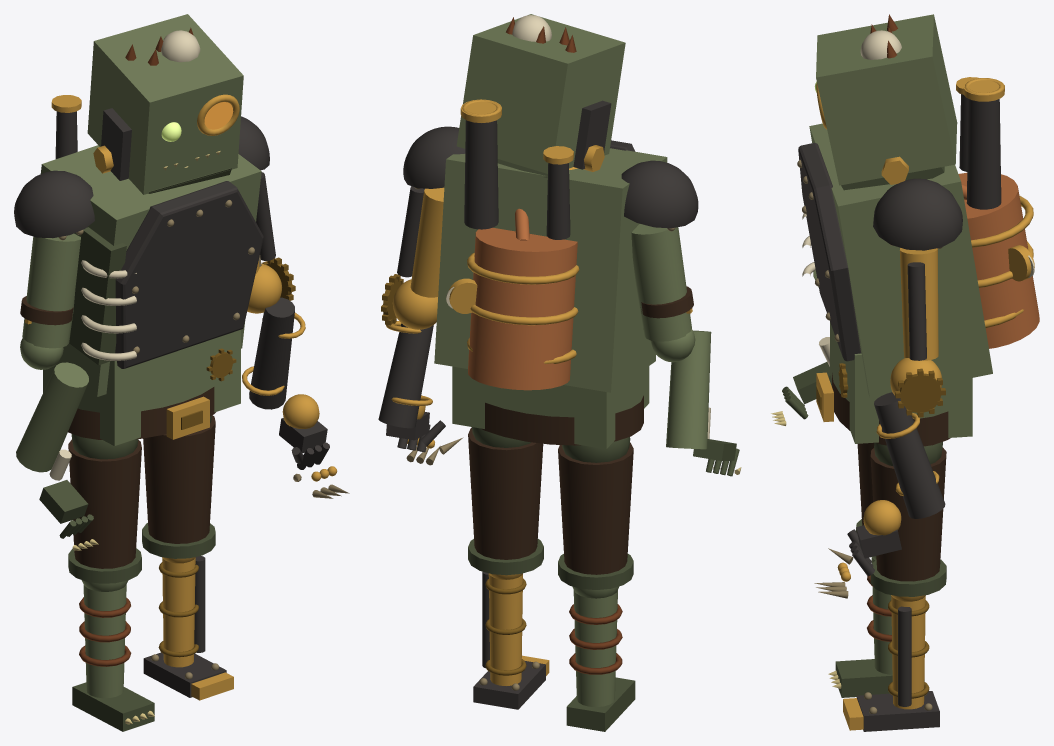
Rendered from revenant.glb.
3 views of the same model, side by side, from view 1: azimuth 30°, elevation 25°; view 2: azimuth 150°, elevation 25°; view 3: azimuth 270°, elevation 25° (orthographic). The views are drawn at different scales.
Visible parts, largest first — view 1: chest_plate, skull, belly, chest, thigh_R, thigh_L, upper_arm_L, pauldron_L, flesh_tear, forearm_L, shin_L, forearm_R (+23 smaller); view 2: chest, skull, steam_tank, thigh_L, thigh_R, belly, upper_arm_L, pauldron_L, forearm_L, shin_L, smokestack, belt (+24 smaller); view 3: skull, chest, steam_tank, chest_plate, pauldron_R, thigh_R, belly, forearm_R, smokestack, upper_arm_R_core, foot_R, shin_R (+22 smaller).
Part boxes in pixels (left/top/right/bottom): chest_plate: left=115, top=181, right=263, bottom=368; skull: left=87, top=14, right=243, bottom=194; belly: left=43, top=329, right=240, bottom=446; chest: left=40, top=145, right=261, bottom=396; thigh_R: left=143, top=415, right=215, bottom=543; thigh_L: left=68, top=439, right=141, bottom=568; upper_arm_L: left=22, top=233, right=80, bottom=348; pauldron_L: left=14, top=170, right=94, bottom=238; flesh_tear: left=69, top=227, right=126, bottom=365; forearm_L: left=16, top=362, right=88, bottom=472; shin_L: left=83, top=584, right=126, bottom=698; forearm_R: left=249, top=297, right=294, bottom=409; chest: left=434, top=148, right=667, bottom=392; skull: left=456, top=14, right=625, bottom=173; steam_tank: left=468, top=227, right=577, bottom=390; thigh_L: left=558, top=442, right=633, bottom=574; thigh_R: left=468, top=427, right=543, bottom=559; belly: left=452, top=366, right=649, bottom=449; upper_arm_L: left=631, top=224, right=691, bottom=341; pauldron_L: left=621, top=160, right=698, bottom=228; forearm_L: left=666, top=330, right=711, bottom=449; shin_L: left=573, top=590, right=617, bottom=707; smokestack: left=464, top=120, right=498, bottom=229; belt: left=481, top=395, right=643, bottom=445; skull: left=816, top=14, right=957, bottom=185; chest: left=809, top=123, right=992, bottom=398; steam_tank: left=958, top=172, right=1039, bottom=348; chest_plate: left=798, top=143, right=861, bottom=361; pauldron_R: left=873, top=178, right=962, bottom=250; thigh_R: left=870, top=447, right=946, bottom=581; belly: left=830, top=322, right=972, bottom=443; forearm_R: left=874, top=392, right=945, bottom=518; smokestack: left=966, top=99, right=1001, bottom=209; upper_arm_R_core: left=899, top=248, right=938, bottom=360; foot_R: left=856, top=691, right=939, bottom=731; shin_R: left=891, top=596, right=925, bottom=709.
Bounding box in the file's own units: 1.04 × 2.17 × 0.7707.
